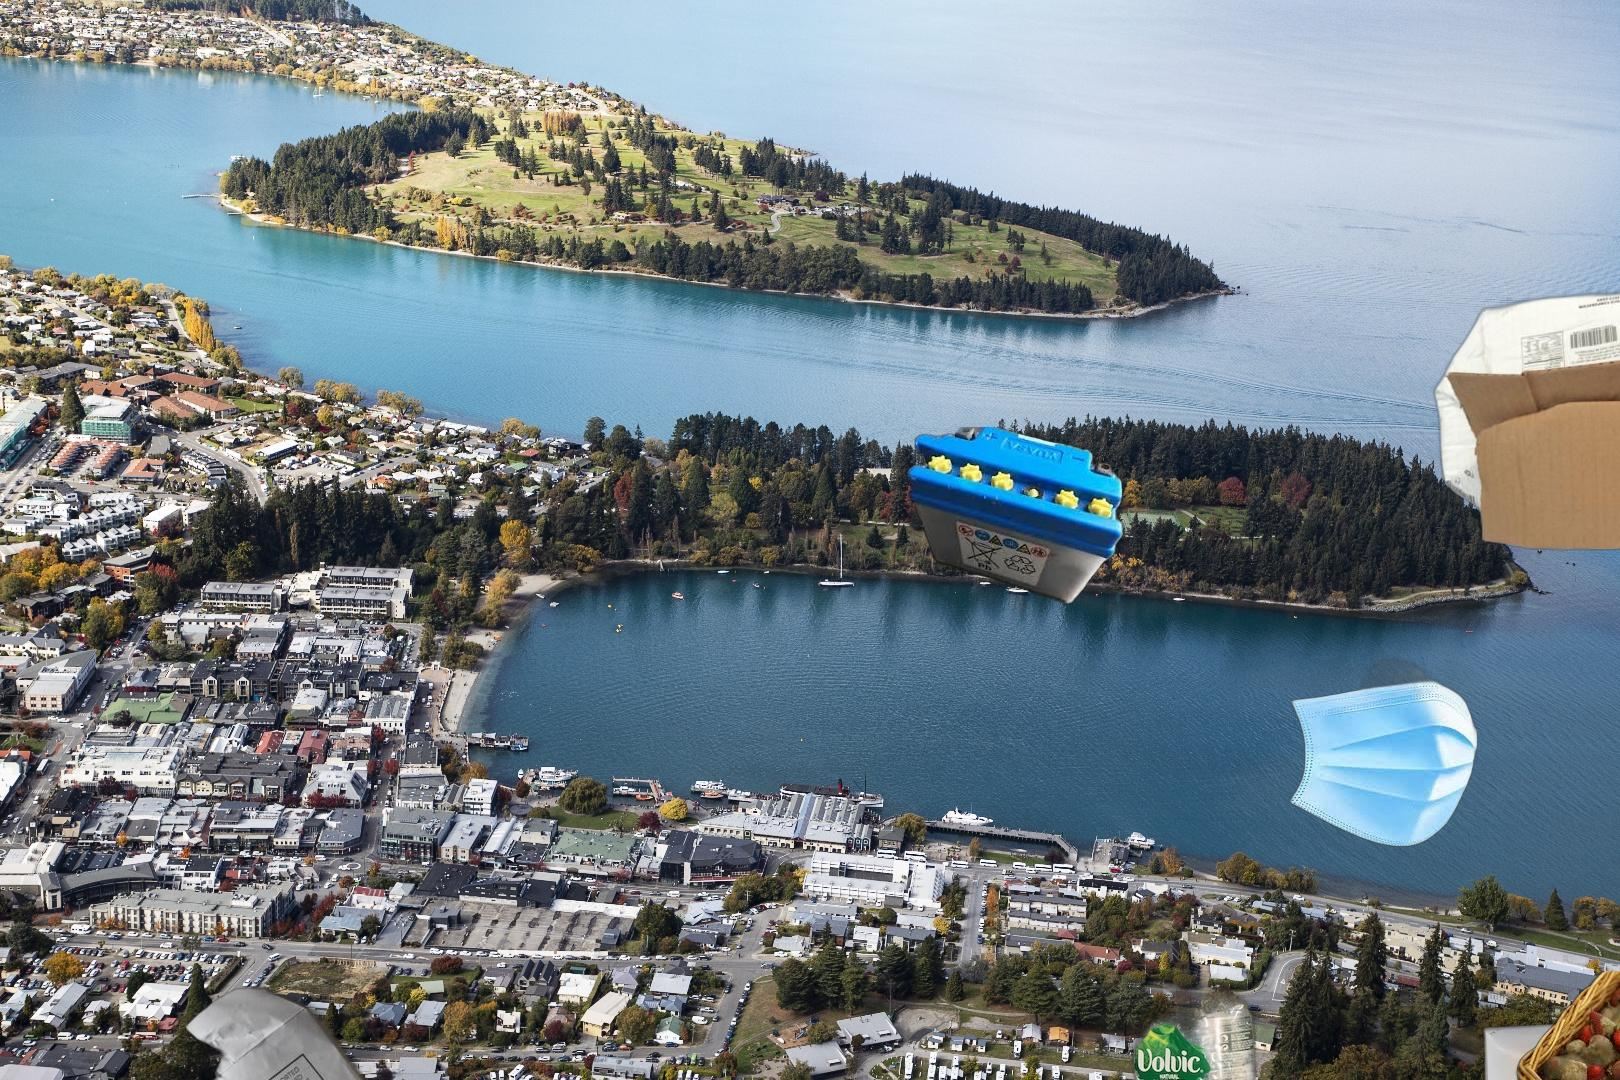battery: (904, 427, 1128, 607)
biological: (1504, 972, 1620, 1080)
paper: (42, 984, 444, 1080), (1478, 998, 1620, 1080)
plastic-bottles: (1128, 933, 1279, 1080)
trash: (1287, 655, 1477, 849)
trashbox-cardboard: (1430, 263, 1620, 563)
